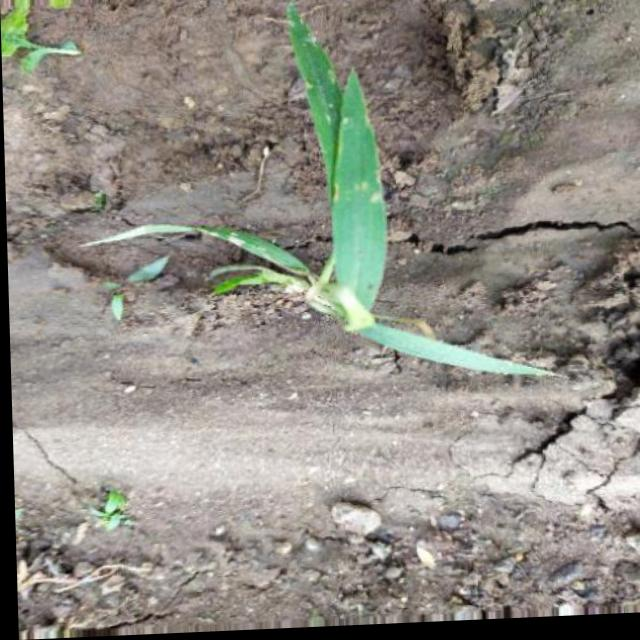weed: (67, 11, 581, 426)
